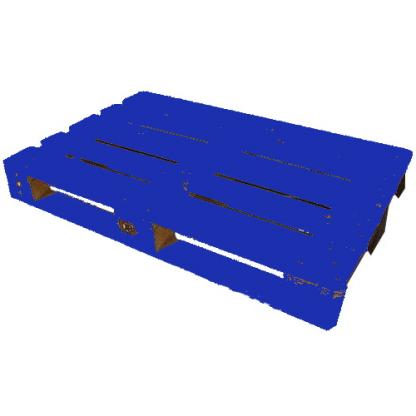BoxFace: (2, 85, 415, 339)
